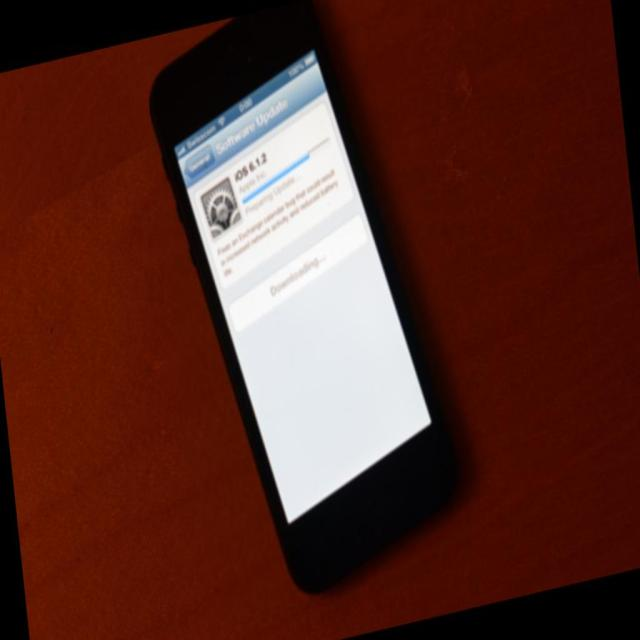handphone: (157, 7, 428, 597)
